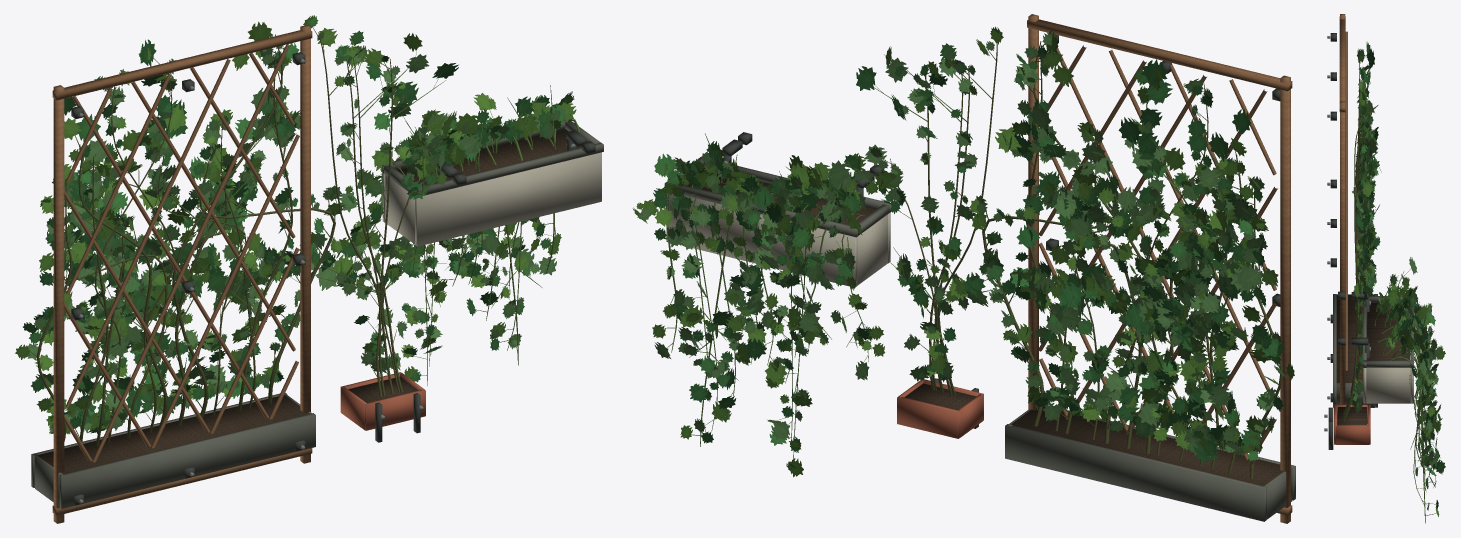
3 views of the same model, side by side, from view 1: azimuth 30°, elevation 25°; view 2: azimuth 150°, elevation 25°; view 3: azimuth 270°, elevation 25° (orthographic). The views are drawn at different scales.
Parts seen in each view (by area): view 1: Trellis__VIS_Trellis_DiagonalLaths_timber, Trellis__VIS_Trellis_TimberFrame_timber, Trellis__VIS_Foliage_WindLeaves_2_leaf, Trellis__VIS_Foliage_WindLeaves_0_leaf, Trellis__VIS_Foliage_WindLeaves_1_leaf, Trellis__VIS_Stem_Primary_stem, Trellis__VIS_Foliage_WindLeaves_02_leaf, Trellis__VIS_Planter_Wall_planter_dark, Hanging__VIS_Planter_RearWall_planter, Trellis__VIS_Planter_Soil_soil, Hanging__VIS_Foliage_WindLeaves_0_leaf, Sparse__VIS_Foliage_WindLeaves_1_leaf (+21 smaller); view 2: Trellis__VIS_Foliage_WindLeaves_2_leaf, Trellis__VIS_Foliage_WindLeaves_0_leaf, Trellis__VIS_Foliage_WindLeaves_1_leaf, Hanging__VIS_Foliage_WindLeaves_2_leaf, Hanging__VIS_Foliage_WindLeaves_1_leaf, Trellis__VIS_Planter_Wall_planter_dark, Hanging__VIS_Foliage_WindLeaves_0_leaf, Trellis__VIS_Trellis_TimberFrame_timber, Trellis__VIS_Foliage_WindLeaves_02_leaf, Trellis__VIS_Trellis_DiagonalLaths_timber, Trellis__VIS_Planter_Soil_soil, Sparse__VIS_Foliage_WindLeaves_2_leaf (+16 smaller); view 3: Trellis__VIS_Trellis_TimberFrame_timber, Hanging__VIS_Foliage_WindLeaves_2_leaf, Hanging__VIS_Foliage_WindLeaves_1_leaf, Hanging__VIS_Foliage_WindLeaves_0_leaf, Hanging__VIS_Planter_EndWall_planter, Hanging__VIS_Planter_Soil_soil, Hanging__VIS_Stem_Primary_stem_young, Trellis__VIS_Foliage_WindLeaves_0_leaf, Trellis__VIS_Foliage_WindLeaves_2_leaf, Trellis__VIS_Planter_Soil_soil, Trellis__VIS_Foliage_WindLeaves_1_leaf, Trellis__VIS_Trellis_DiagonalLaths_timber (+18 smaller).
Part boxes in pixels (left/top/right/bottom): Trellis__VIS_Trellis_DiagonalLaths_timber: left=64, top=44, right=299, bottom=462; Trellis__VIS_Trellis_TimberFrame_timber: left=52, top=25, right=312, bottom=523; Trellis__VIS_Foliage_WindLeaves_2_leaf: left=25, top=43, right=345, bottom=429; Trellis__VIS_Foliage_WindLeaves_0_leaf: left=15, top=21, right=324, bottom=433; Trellis__VIS_Foliage_WindLeaves_1_leaf: left=35, top=22, right=342, bottom=433; Trellis__VIS_Stem_Primary_stem: left=36, top=34, right=335, bottom=450; Trellis__VIS_Foliage_WindLeaves_02_leaf: left=29, top=36, right=330, bottom=434; Trellis__VIS_Planter_Wall_planter_dark: left=31, top=393, right=315, bottom=508; Hanging__VIS_Planter_RearWall_planter: left=415, top=152, right=601, bottom=246; Trellis__VIS_Planter_Soil_soil: left=37, top=395, right=309, bottom=473; Hanging__VIS_Foliage_WindLeaves_0_leaf: left=333, top=95, right=574, bottom=378; Sparse__VIS_Foliage_WindLeaves_1_leaf: left=299, top=15, right=467, bottom=372; Trellis__VIS_Foliage_WindLeaves_2_leaf: left=972, top=54, right=1286, bottom=455; Trellis__VIS_Foliage_WindLeaves_0_leaf: left=984, top=30, right=1294, bottom=463; Trellis__VIS_Foliage_WindLeaves_1_leaf: left=976, top=32, right=1278, bottom=460; Hanging__VIS_Foliage_WindLeaves_2_leaf: left=637, top=153, right=883, bottom=470; Hanging__VIS_Foliage_WindLeaves_1_leaf: left=632, top=144, right=884, bottom=450; Trellis__VIS_Planter_Wall_planter_dark: left=1005, top=405, right=1295, bottom=521; Hanging__VIS_Foliage_WindLeaves_0_leaf: left=641, top=141, right=871, bottom=477; Trellis__VIS_Trellis_TimberFrame_timber: left=1027, top=14, right=1292, bottom=523; Trellis__VIS_Foliage_WindLeaves_02_leaf: left=979, top=45, right=1283, bottom=454; Trellis__VIS_Trellis_DiagonalLaths_timber: left=1038, top=45, right=1277, bottom=464; Trellis__VIS_Planter_Soil_soil: left=1011, top=407, right=1283, bottom=486; Sparse__VIS_Foliage_WindLeaves_2_leaf: left=851, top=43, right=1003, bottom=381; Trellis__VIS_Trellis_TimberFrame_timber: left=1339, top=14, right=1345, bottom=404; Hanging__VIS_Foliage_WindLeaves_2_leaf: left=1377, top=257, right=1440, bottom=510; Hanging__VIS_Foliage_WindLeaves_1_leaf: left=1378, top=274, right=1445, bottom=516; Hanging__VIS_Foliage_WindLeaves_0_leaf: left=1380, top=274, right=1443, bottom=509; Hanging__VIS_Planter_EndWall_planter: left=1366, top=307, right=1410, bottom=403; Hanging__VIS_Planter_Soil_soil: left=1367, top=302, right=1409, bottom=360; Hanging__VIS_Stem_Primary_stem_young: left=1374, top=271, right=1426, bottom=523; Trellis__VIS_Foliage_WindLeaves_0_leaf: left=1355, top=42, right=1381, bottom=315; Trellis__VIS_Foliage_WindLeaves_2_leaf: left=1352, top=48, right=1379, bottom=313; Trellis__VIS_Planter_Soil_soil: left=1336, top=295, right=1374, bottom=382; Trellis__VIS_Foliage_WindLeaves_1_leaf: left=1356, top=52, right=1378, bottom=358; Trellis__VIS_Trellis_DiagonalLaths_timber: left=1345, top=31, right=1347, bottom=370.
Size of the model in its own units: 3.97 by 2.83 by 0.947.
Materials: 10 (10 with a texture image).
